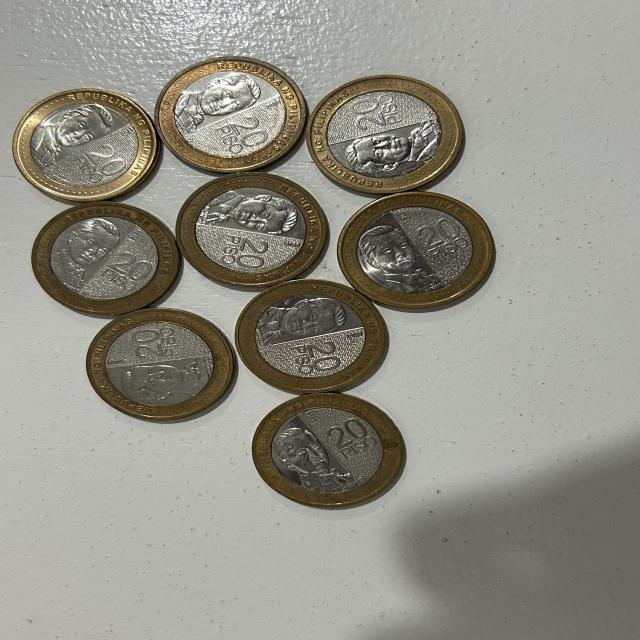20_New_Front: (404, 213, 464, 275), (316, 411, 378, 463), (70, 141, 146, 183), (345, 94, 416, 134), (116, 325, 182, 366), (92, 251, 152, 293), (215, 230, 271, 273), (215, 117, 271, 156), (284, 340, 354, 369)
